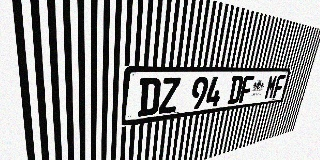4: (205, 76, 223, 108)
9: (190, 77, 209, 110)
D: (137, 78, 161, 117), (227, 76, 244, 105)
F: (239, 76, 255, 103), (272, 75, 286, 98)
M: (264, 75, 278, 100)
Z: (158, 77, 181, 114)
